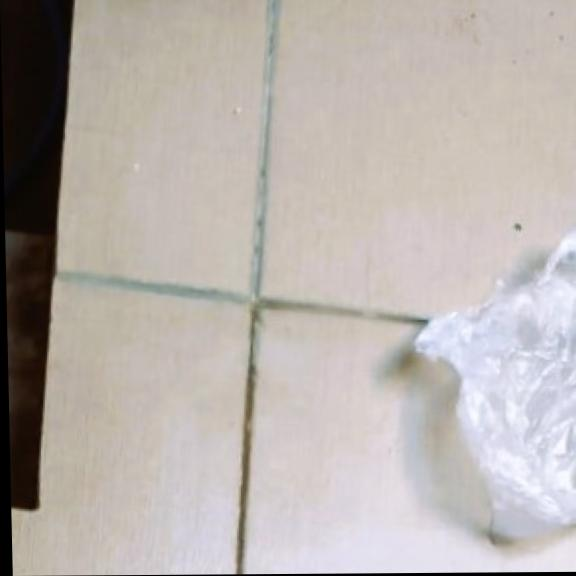Plastik: (413, 226, 576, 543)
